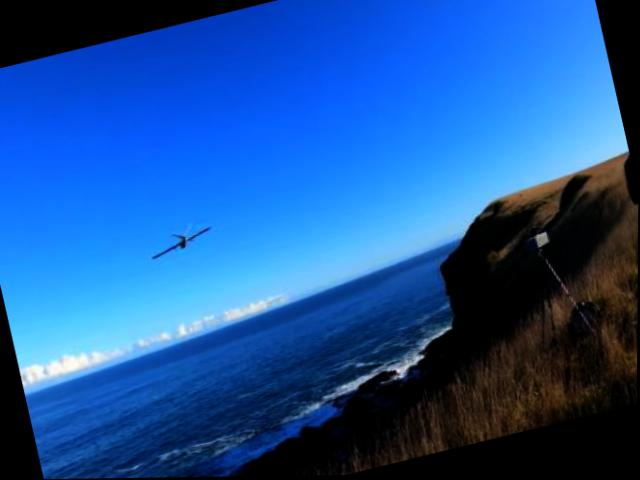uav: (145, 217, 218, 266)
